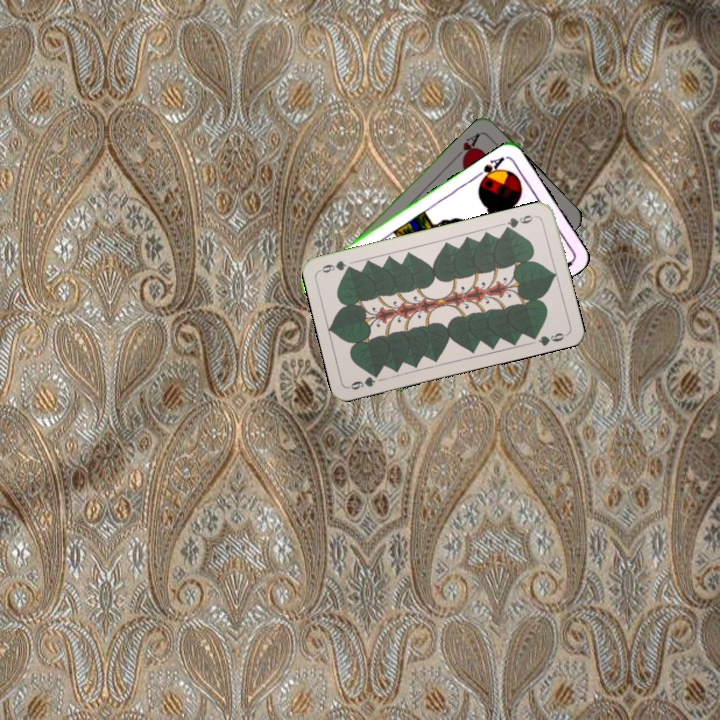G9: (345, 368, 383, 392), (501, 211, 540, 233)
HA: (451, 129, 482, 164)
SA: (472, 153, 507, 185)
